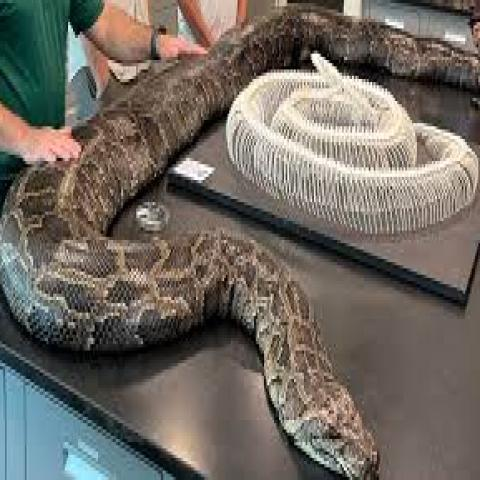snake: (1, 3, 480, 480)
